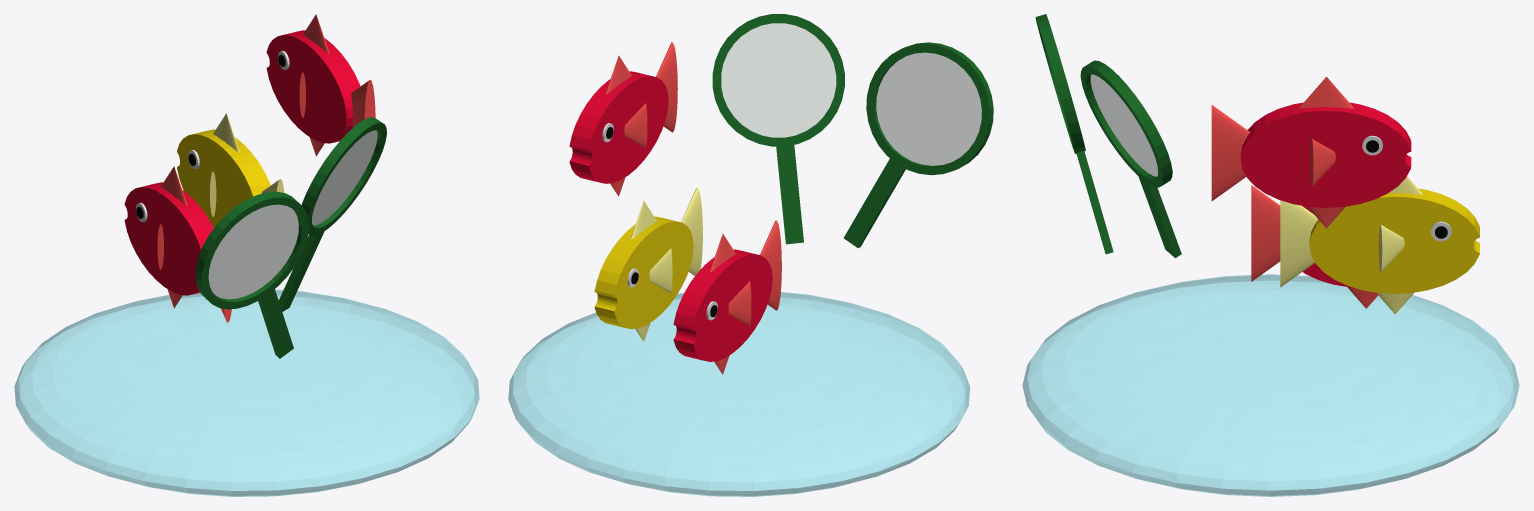
The model's file is goldfish_title 1.fbx.
The picture shows the model from 3 angles, left to right: view 1: azimuth 30°, elevation 25°; view 2: azimuth 150°, elevation 25°; view 3: azimuth 270°, elevation 25°; orthographic projection. The views are drawn at different scales.
Visible parts, largest first — view 1: 球, 胴体.002, 胴体.001, 円柱.004, 胴体, 円柱.001, 円柱.003, 円柱.002, 立方体.002, 立方体.001, 尾びれ.002; view 2: 球, 円柱.002, 円柱.004, 胴体.001, 胴体, 胴体.002, 円柱.001, 円柱.003, 立方体.001, 立方体.002, 尾びれ.002, 尾びれ.001 (+4 smaller); view 3: 球, 胴体.002, 胴体, 円柱.003, 円柱.002, 尾びれ.002, 尾びれ, 尾びれ.001, 円柱.001, 立方体.001, 立方体.002, 背びれ.002 (+2 smaller).
Part boxes in pixels (bbox=[...]): 球: bbox=[14, 289, 479, 496]; 胴体.002: bbox=[266, 30, 360, 143]; 胴体.001: bbox=[124, 182, 213, 295]; 円柱.004: bbox=[208, 204, 298, 299]; 胴体: bbox=[177, 129, 270, 227]; 円柱.001: bbox=[195, 191, 308, 309]; 円柱.003: bbox=[301, 117, 386, 235]; 円柱.002: bbox=[312, 130, 377, 225]; 立方体.002: bbox=[258, 289, 293, 358]; 立方体.001: bbox=[278, 231, 324, 311]; 尾びれ.002: bbox=[351, 80, 375, 127]; 球: bbox=[508, 292, 970, 496]; 円柱.002: bbox=[721, 23, 836, 137]; 円柱.004: bbox=[876, 52, 981, 165]; 胴体.001: bbox=[673, 249, 772, 361]; 胴体: bbox=[594, 216, 693, 329]; 胴体.002: bbox=[569, 71, 668, 183]; 円柱.001: bbox=[866, 42, 993, 175]; 円柱.003: bbox=[712, 14, 844, 146]; 立方体.001: bbox=[776, 145, 803, 244]; 立方体.002: bbox=[844, 158, 905, 247]; 尾びれ.002: bbox=[656, 42, 677, 132]; 尾びれ.001: bbox=[760, 220, 781, 310]; 球: bbox=[1022, 274, 1519, 496]; 胴体.002: bbox=[1240, 102, 1411, 207]; 胴体: bbox=[1309, 188, 1479, 293]; 円柱.003: bbox=[1080, 60, 1172, 187]; 円柱.002: bbox=[1090, 74, 1157, 176]; 尾びれ.002: bbox=[1211, 105, 1250, 201]; 尾びれ: bbox=[1280, 200, 1318, 287]; 尾びれ.001: bbox=[1251, 185, 1280, 281]; 円柱.001: bbox=[1035, 14, 1085, 153]; 立方体.001: bbox=[1138, 176, 1181, 257]; 立方体.002: bbox=[1076, 151, 1113, 254]; 背びれ.002: bbox=[1299, 76, 1354, 108].
Bounding box in the file's own units: 927 × 815 × 927.
